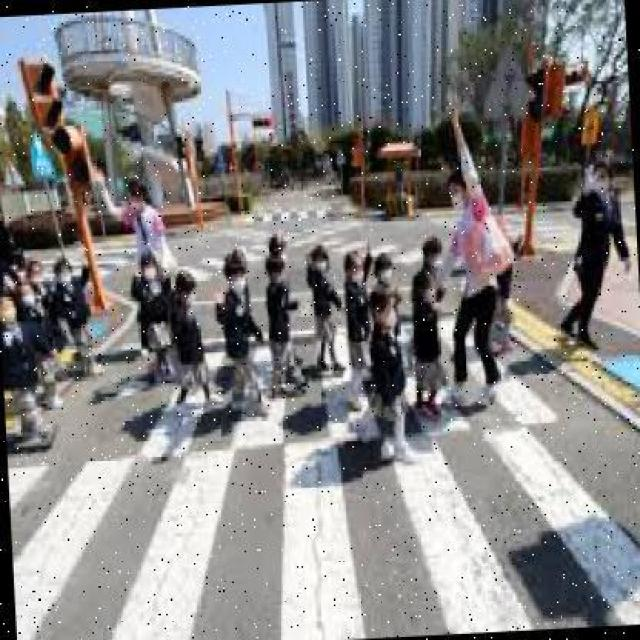Person: (434, 116, 508, 409), (552, 157, 632, 351), (90, 162, 176, 293), (211, 250, 272, 418), (1, 287, 53, 450), (164, 266, 221, 412), (366, 286, 411, 463), (50, 252, 101, 378), (262, 252, 304, 401), (410, 270, 452, 418), (124, 252, 171, 381), (302, 238, 344, 380), (337, 245, 372, 410)
